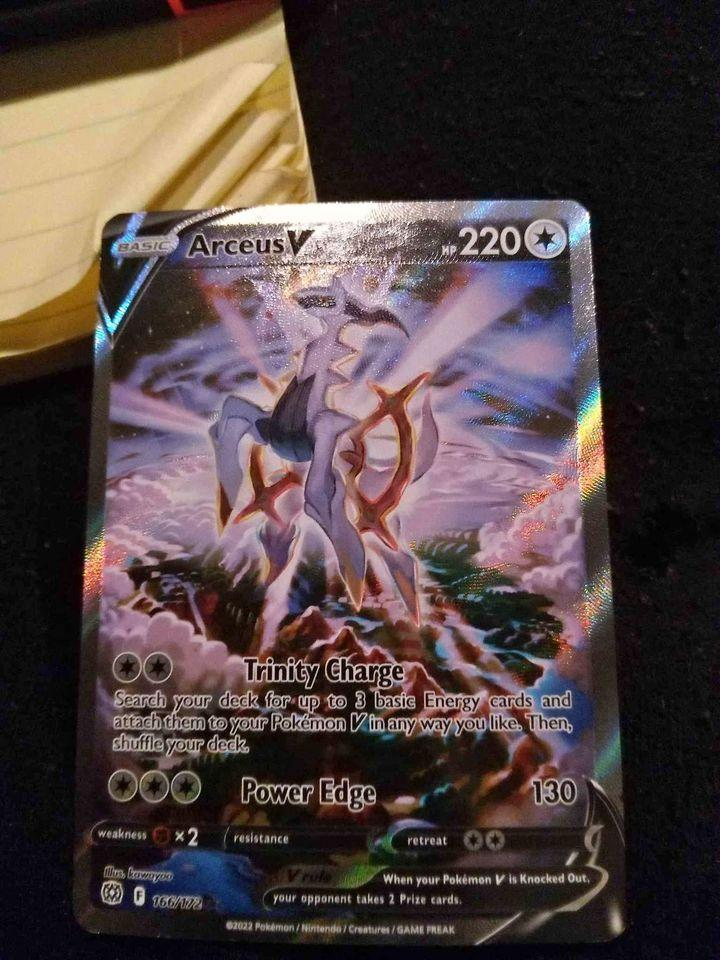card: (69, 198, 629, 944)
name: (188, 226, 323, 261)
set num: (149, 892, 208, 912)
set symbol: (96, 880, 125, 910)
